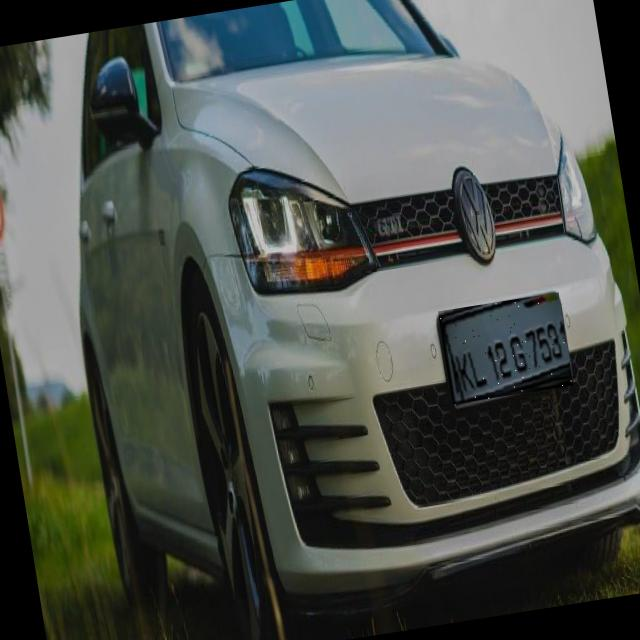Plate: (440, 294, 575, 406)
